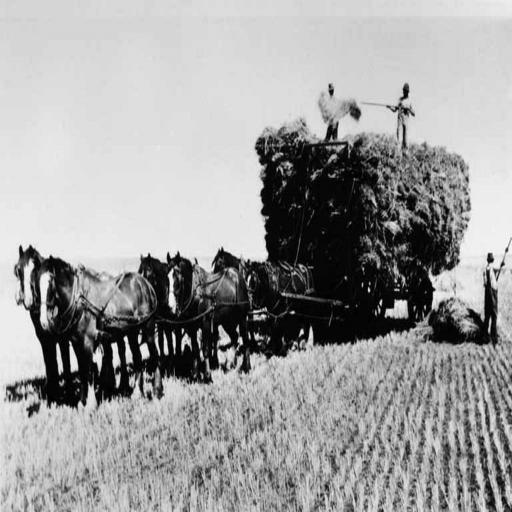horse: (14, 242, 314, 408)
